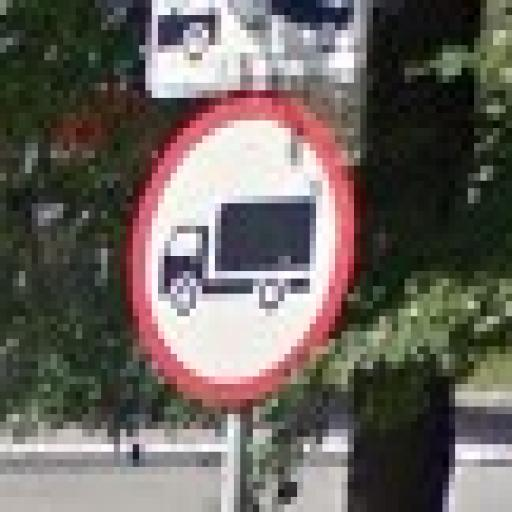traffic_sign: (127, 99, 355, 407)
